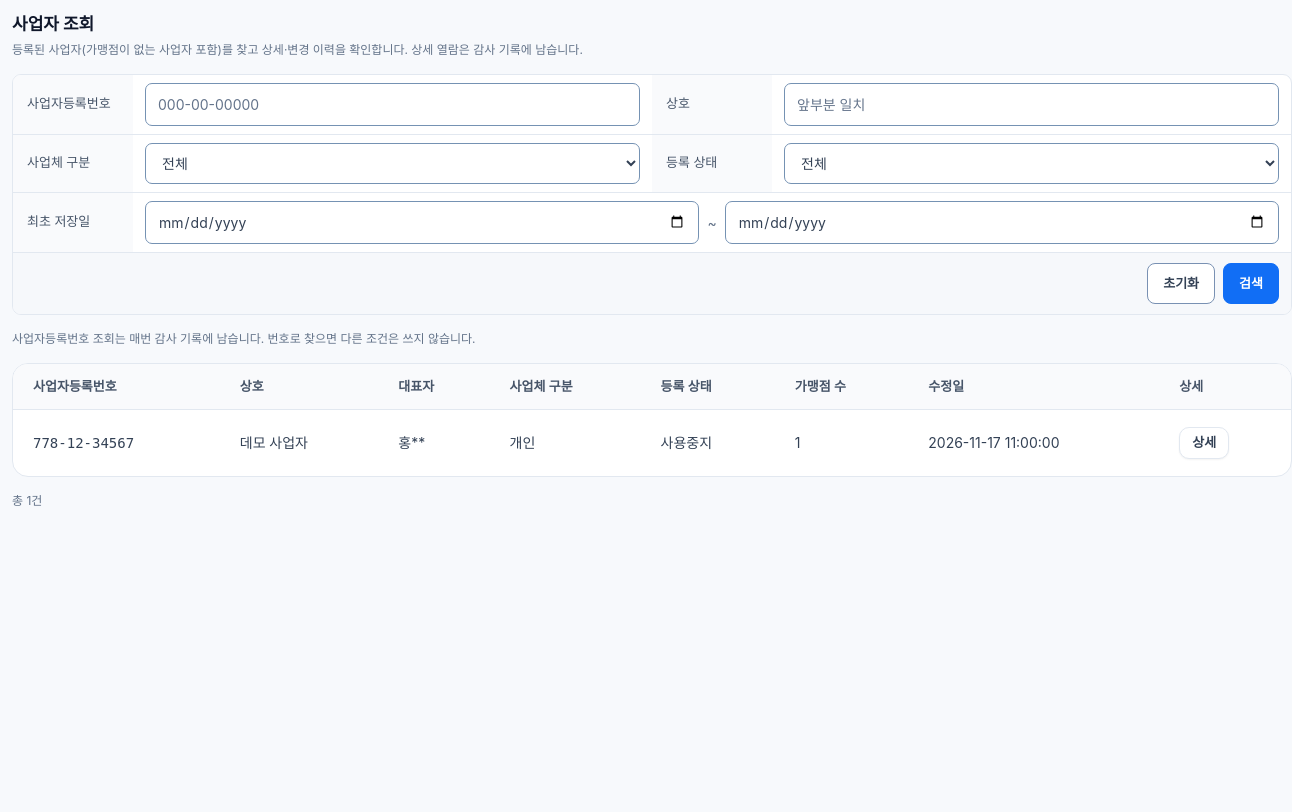
Test case: BIZ-NORM-002 M-3 — 사용중지 사업자는 수정할 수 없다(BR-BIZ-311) › OPERATOR가 사용중지 사업자 상세를 열면 편집 폼 없이 읽기 표시 + 안내; 배지 "사용중지"; 입력칸·저장 0, 위쪽 목록으로; style·내부 키 0
The width and height of the screenshot is (1292, 812).
Click the button with aria-label "데모 사업자 상세" at (1204, 443), box [1179,427,1229,459]
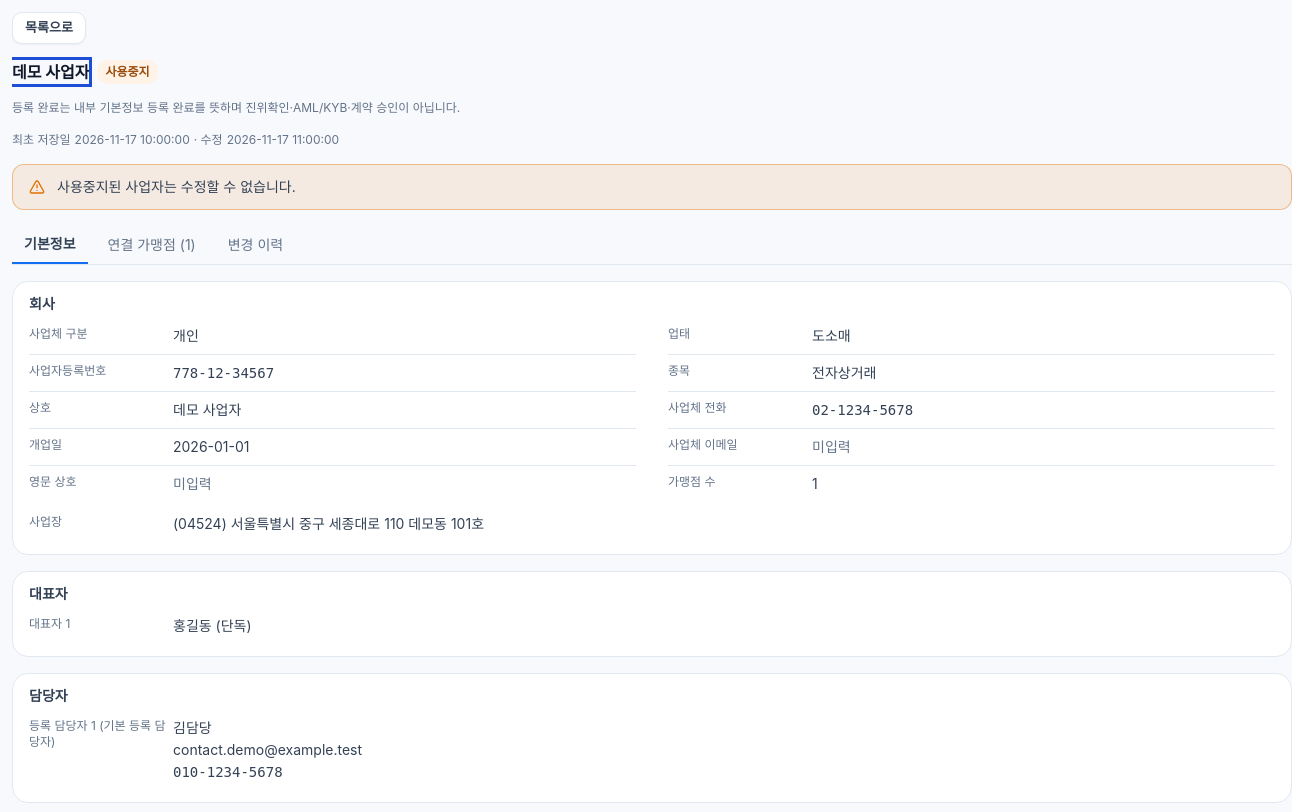
Check: the text "사용중지된 사업자는 수정할 수 없습니다." is shown, box [57,178,296,195]
Check: the text "사용중지" is shown, box [97,60,158,84]
Check: the button "목록으로" is shown, box [12,12,86,44]
